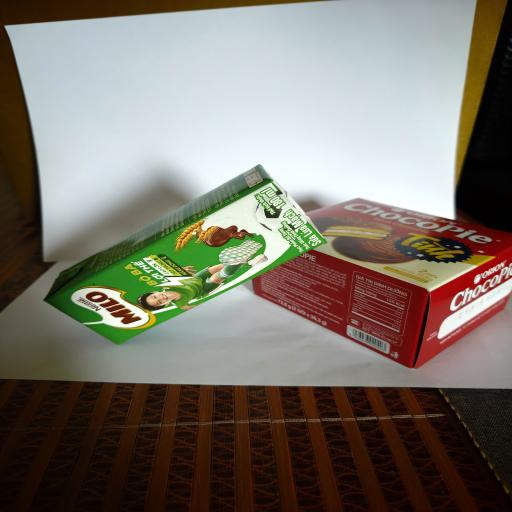chocopie: (252, 198, 512, 369)
milo: (43, 164, 328, 345)
